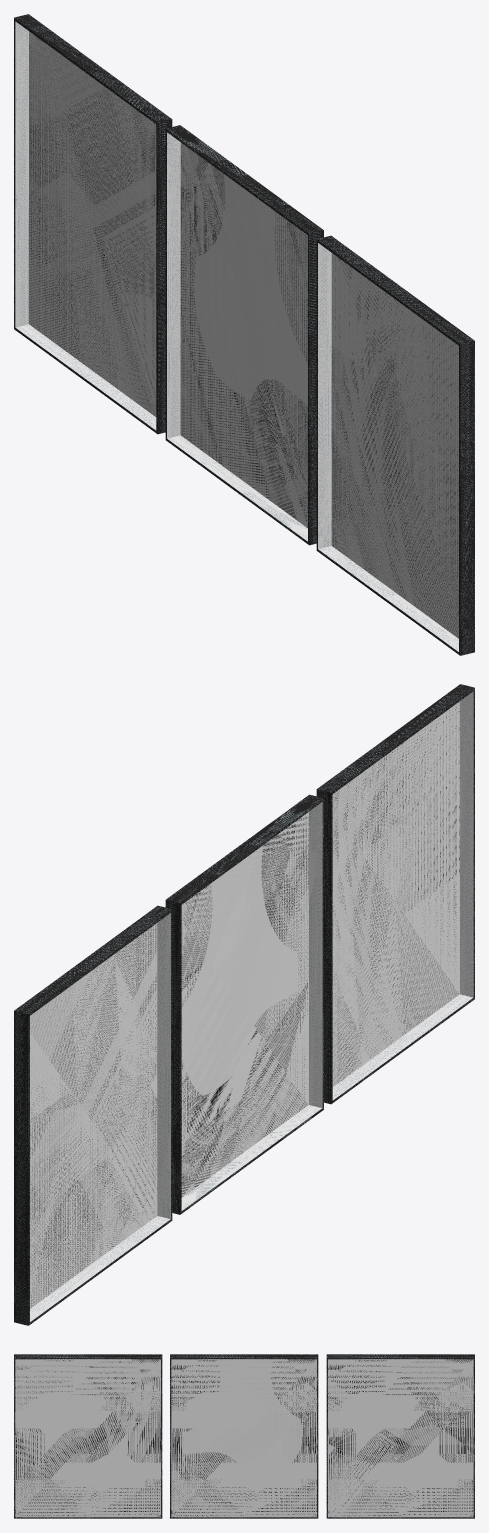
The model's file is art7.dae.
The picture shows the model from 3 angles, top to bottom: view 1: azimuth 30°, elevation 25°; view 2: azimuth 150°, elevation 25°; view 3: azimuth 270°, elevation 25°; orthographic projection. The views are drawn at different scales.
Parts seen in each view (by area): view 1: group_2 (×3), group_0 (×3), group_1 (×3); view 2: group_0 (×3), group_1 (×3), group_2 (×3); view 3: group_0 (×2), group_1 (×2), group_2 (×2).
Part boxes in pixels (bbox=[...]): group_2 (×3): bbox=[316, 235, 474, 655]; group_0 (×3): bbox=[14, 14, 172, 434]; group_1 (×3): bbox=[165, 125, 323, 545]; group_0 (×3): bbox=[14, 905, 172, 1325]; group_1 (×3): bbox=[165, 794, 323, 1214]; group_2 (×3): bbox=[316, 684, 474, 1104]; group_0 (×2): bbox=[326, 1354, 474, 1518]; group_1 (×2): bbox=[170, 1354, 318, 1518]; group_2 (×2): bbox=[14, 1354, 162, 1518].
Size of the model in its own units: 1.18 by 62.36 by 24.02.
Materials: 6 (3 with a texture image).
